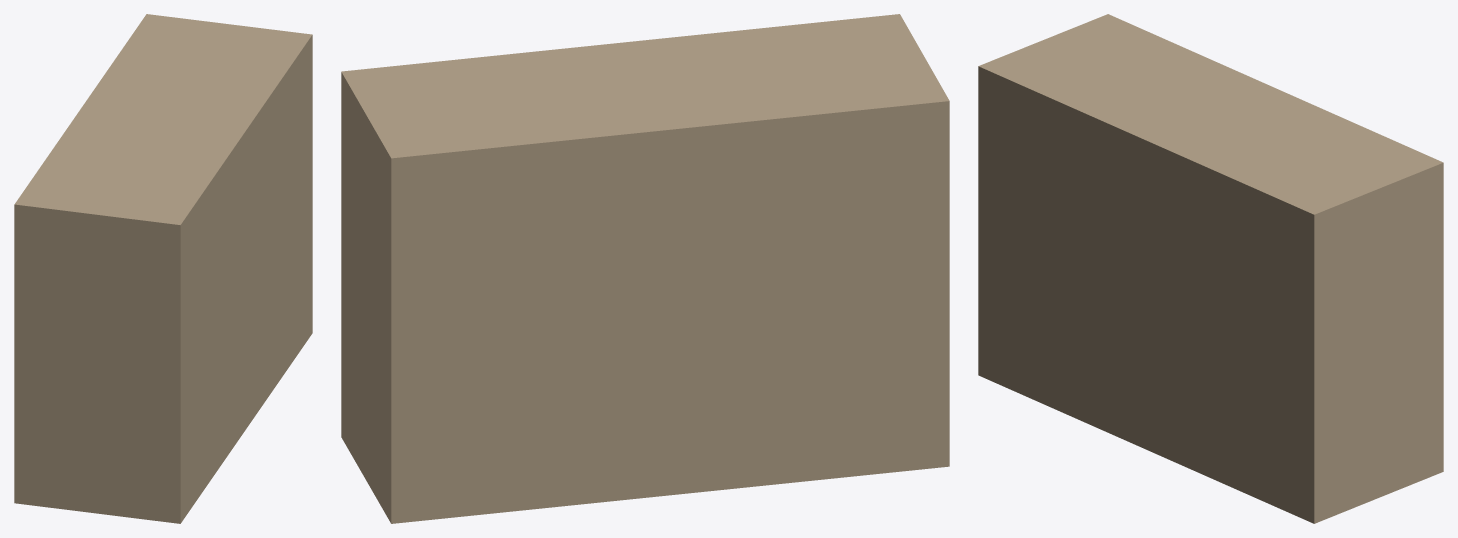
The model's file is bld_108400877.dae.
3 renders of one model, left to right at view 1: azimuth 30°, elevation 25°; view 2: azimuth 150°, elevation 25°; view 3: azimuth 270°, elevation 25°, orthographic. The views are drawn at different scales.
Parts seen in each view (by area): view 1: bld_108400877; view 2: bld_108400877; view 3: bld_108400877.
Part boxes in pixels (x1,y1,x2,y2): bld_108400877: (14, 14, 312, 523); bld_108400877: (341, 14, 949, 523); bld_108400877: (978, 14, 1443, 523).
Bounding box in the file's own units: 11.14 × 10.91 × 8.
